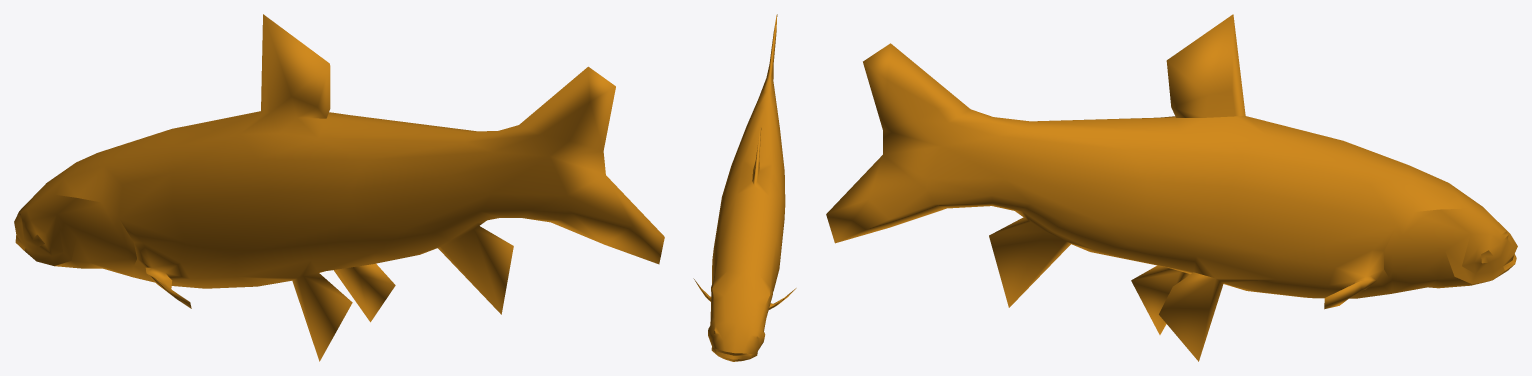
Rendered from fishesInSeaScene.obj.
The picture shows the model from 3 angles, left to right: view 1: azimuth 30°, elevation 25°; view 2: azimuth 150°, elevation 25°; view 3: azimuth 270°, elevation 25°; orthographic projection. The views are drawn at different scales.
Visible parts, largest first — view 1: Circle.001; view 2: Circle.001; view 3: Circle.001.
Part boxes in pixels (x1,y1,x2,y2): Circle.001: (14,14,664,361); Circle.001: (693,14,796,361); Circle.001: (826,14,1517,361).
Size of the model in its own units: 1.13 by 1.27 by 2.25.
